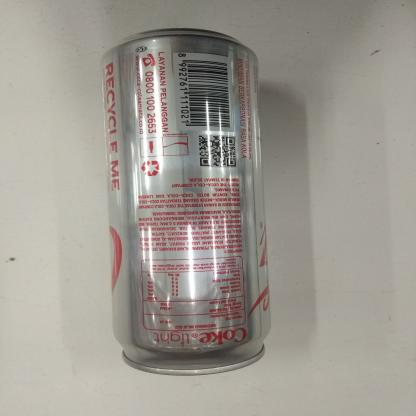can: (96, 26, 269, 381)
